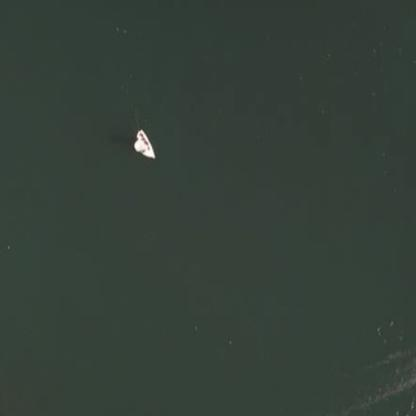ship: (126, 121, 162, 163)
